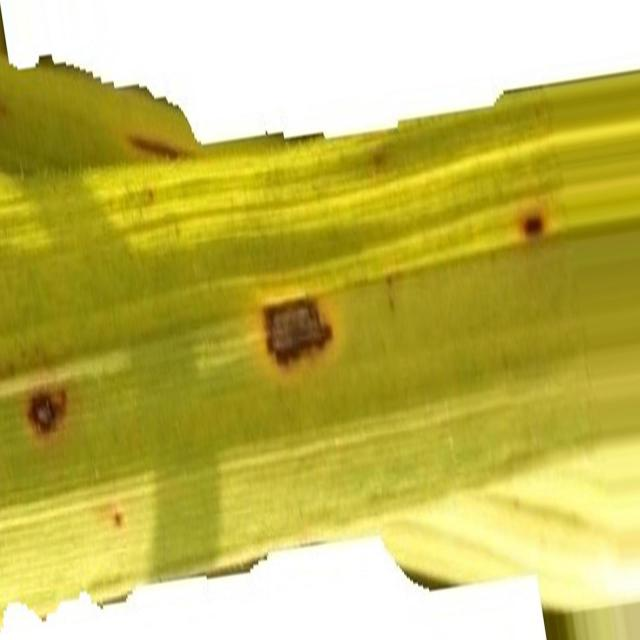Brown_Spot: (264, 299, 332, 364), (28, 389, 66, 434), (129, 135, 182, 158), (522, 214, 544, 238), (370, 145, 388, 174), (108, 504, 125, 529)
